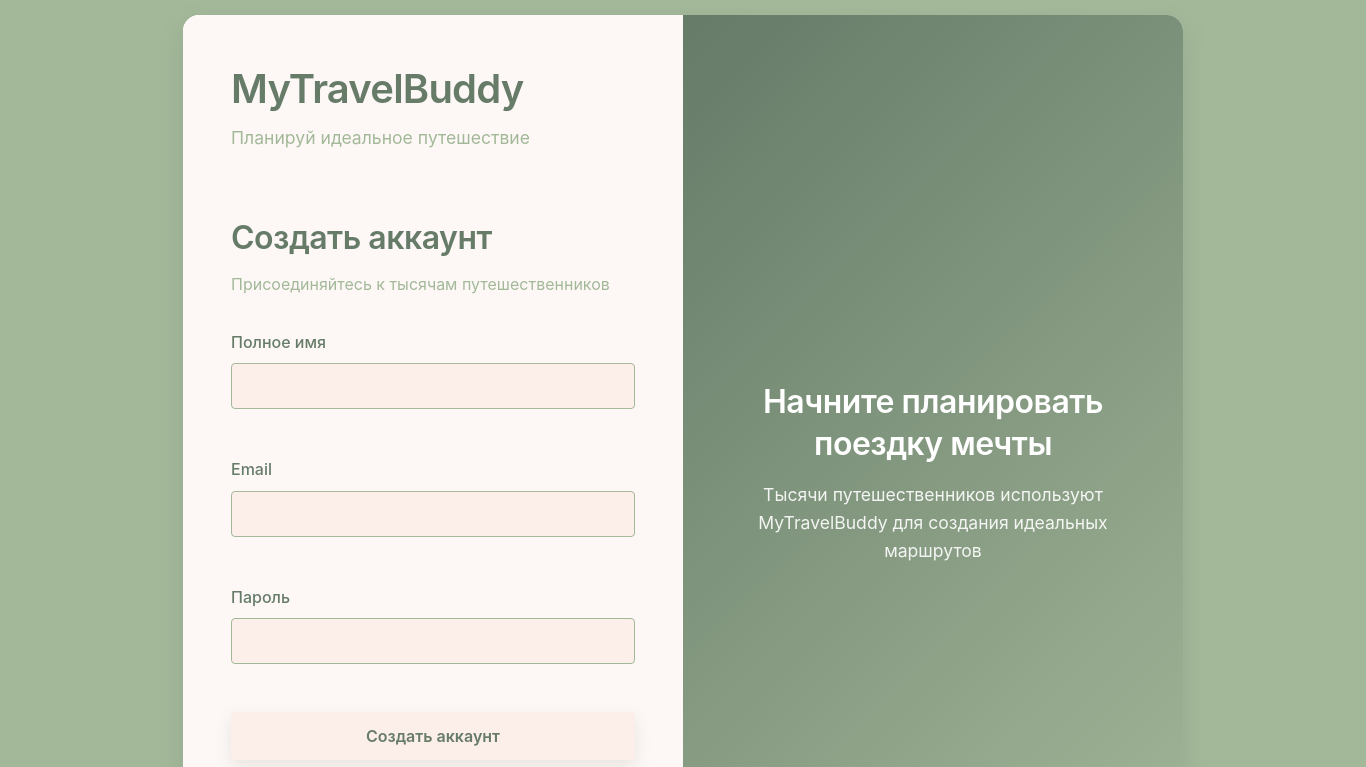
RegisterPage › shows default error when server gives no message
Type "Иван" into the field labelled "Полное имя". click: (433, 386)
box: [231,363,635,409]
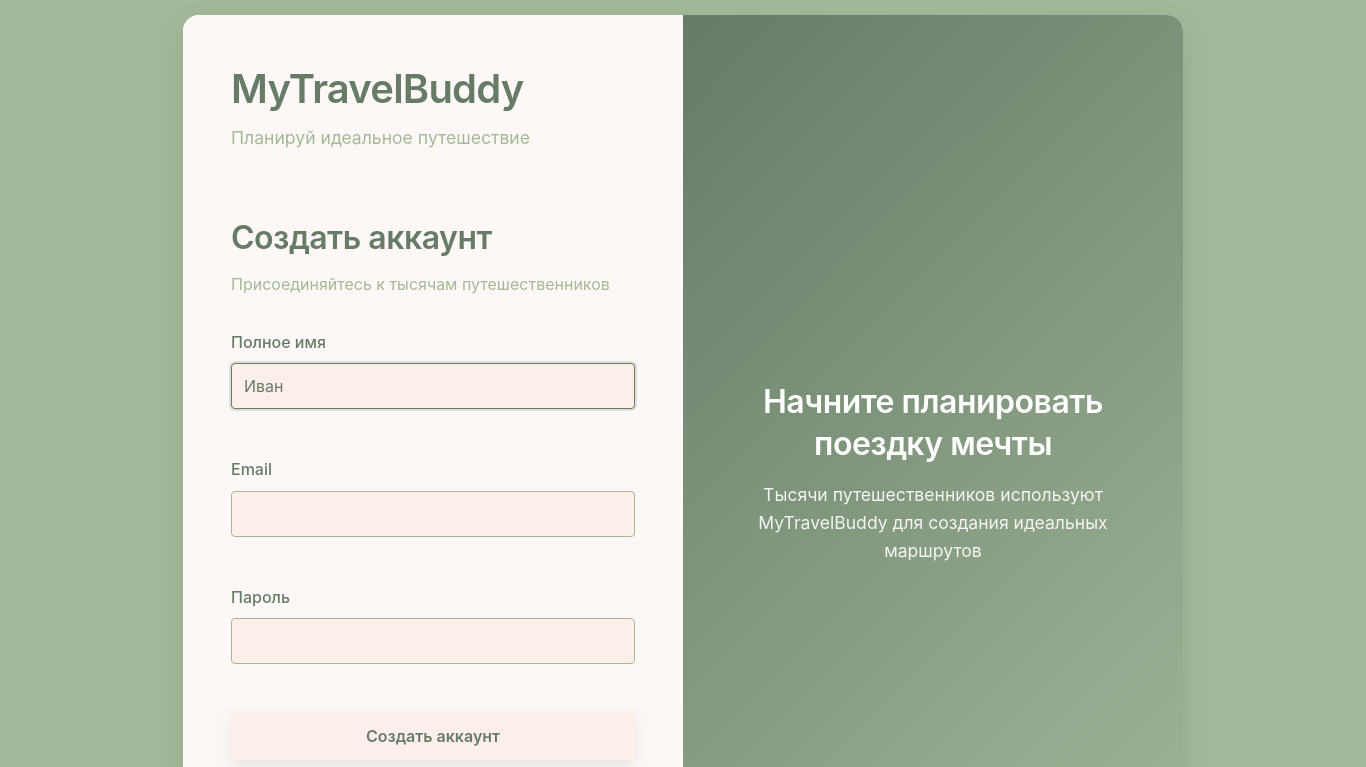
Type "ivan@test.com" into the field labelled "Email". click: (433, 514)
box: [231,491,635,537]
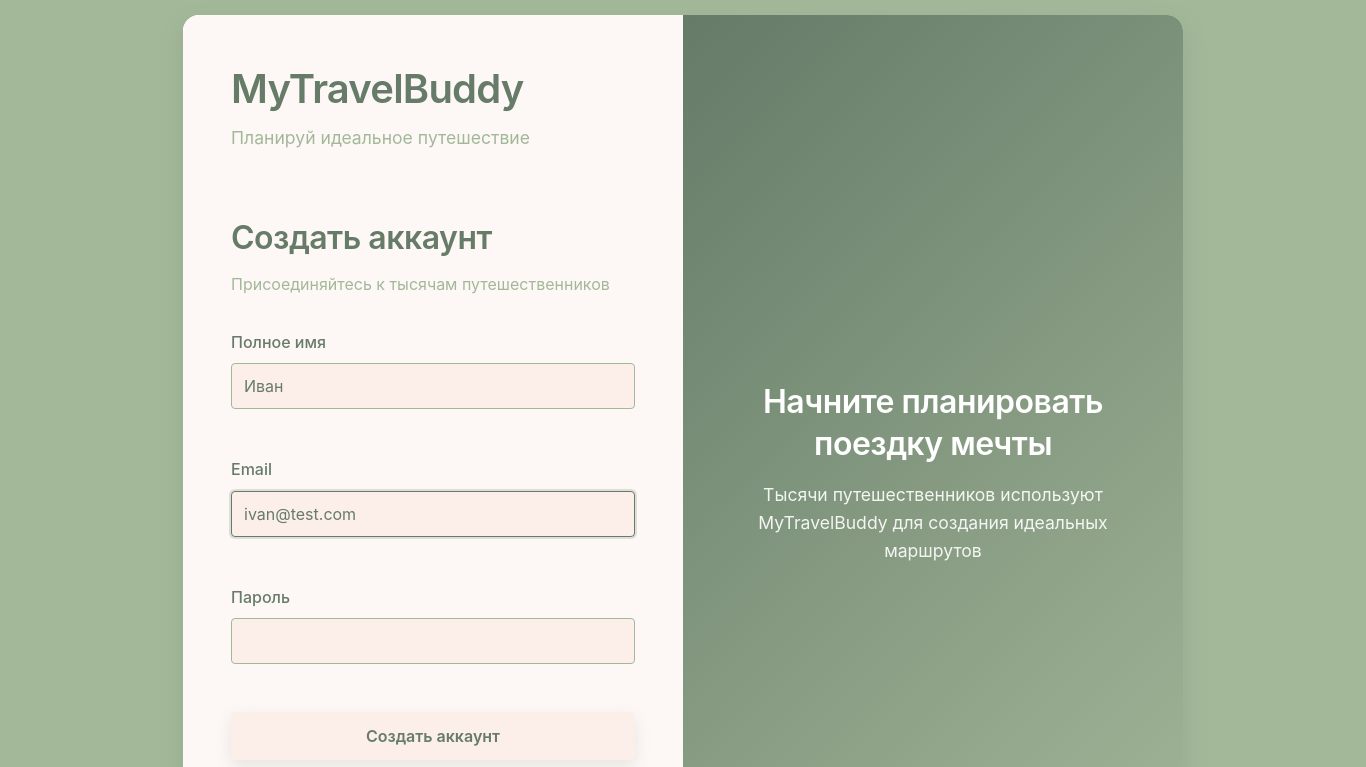
Type "password" into the password field labelled "Пароль". click: (433, 642)
box: [231,618,635,664]
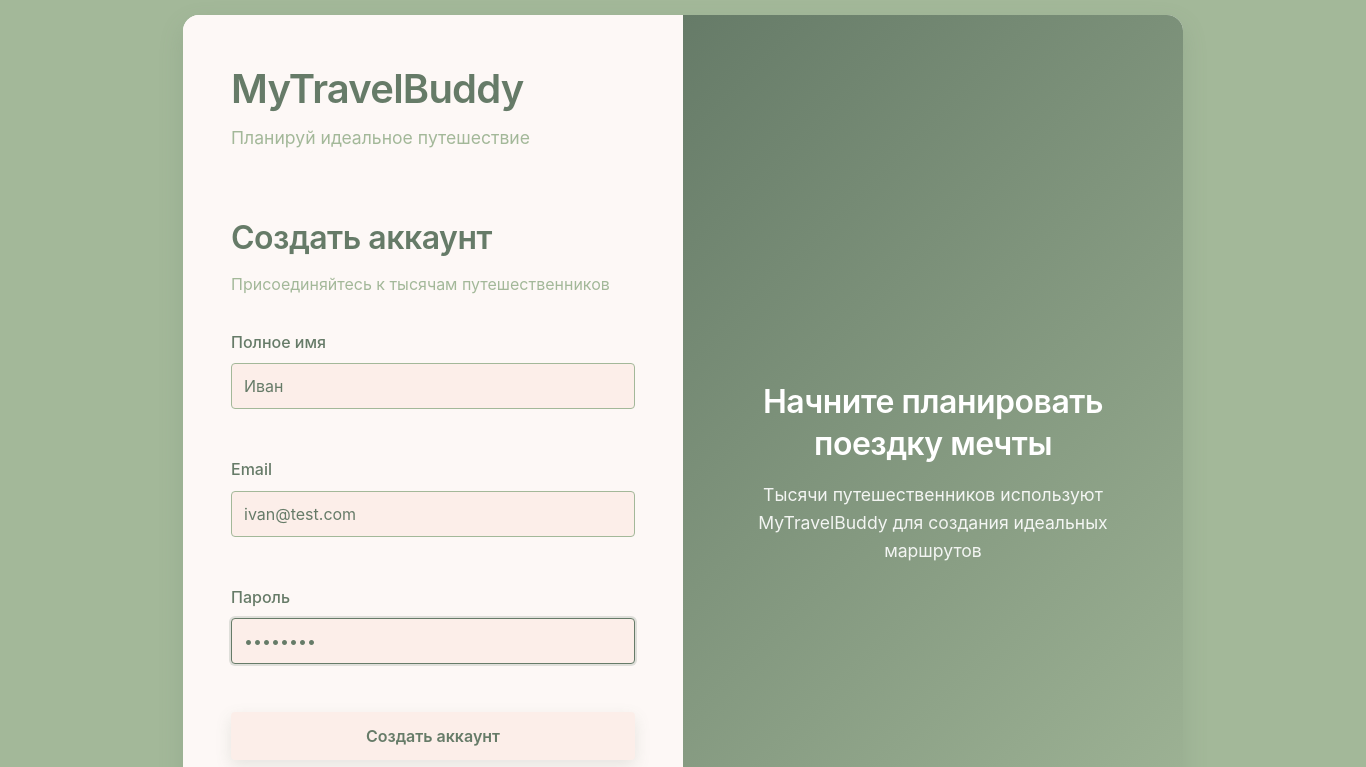
Click the button "Создать аккаунт". click: (433, 736)
box: [231,712,635,760]
(page scrolled)
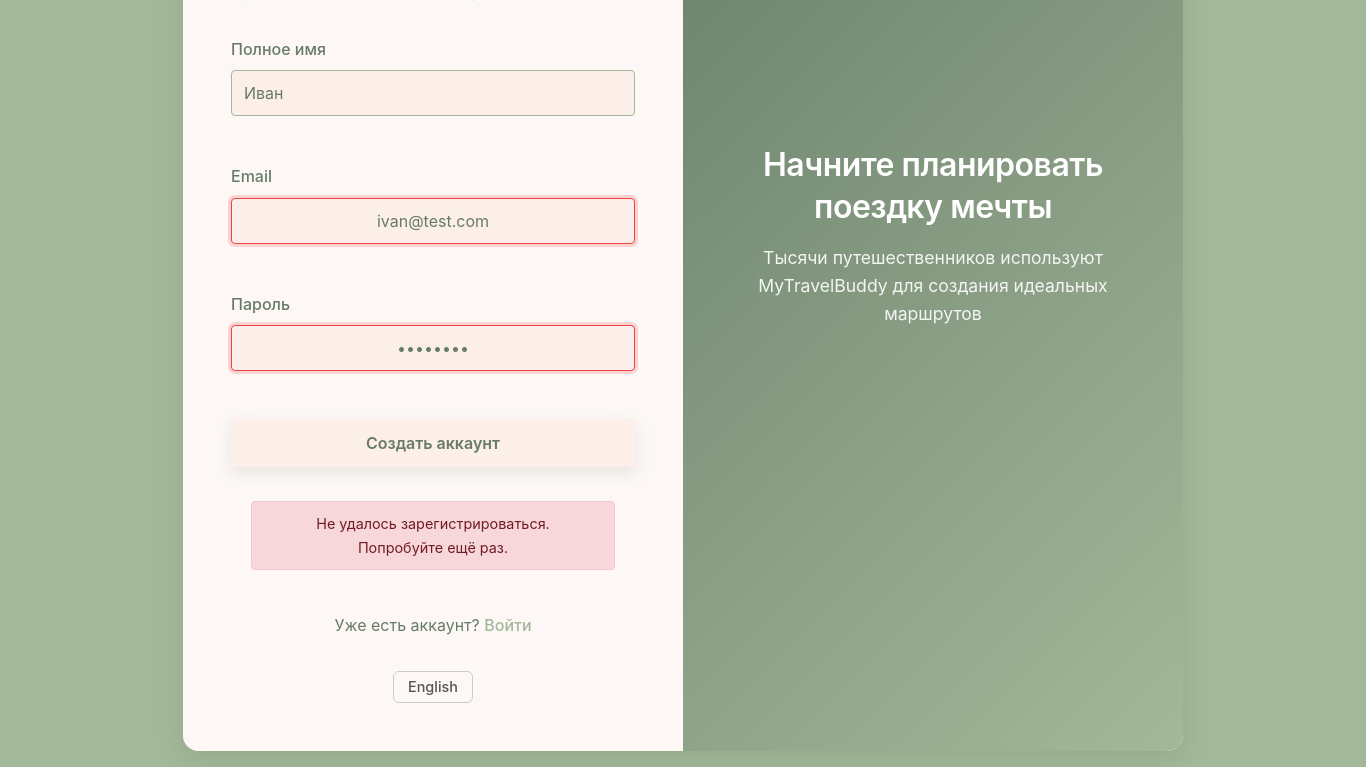
expect the text "Не удалось зарегистрироваться. Попробуйте ещё раз." is shown: met, box [251,502,615,570]
